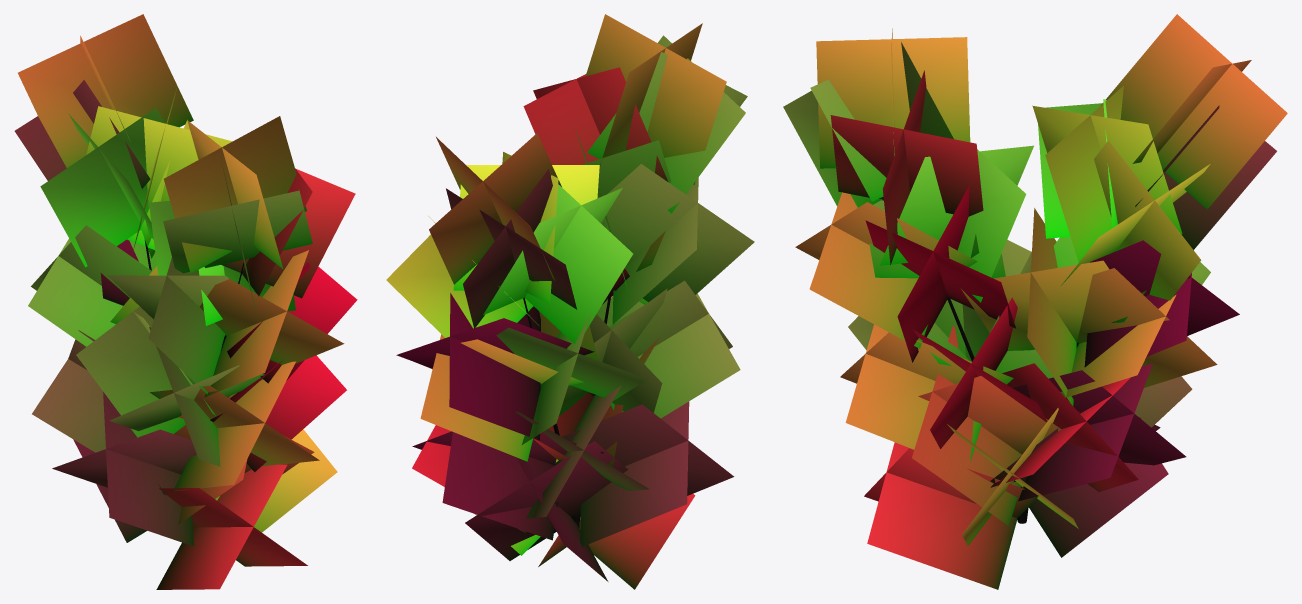
Rendered from Tree_17.fbx.
The picture shows the model from 3 angles, left to right: view 1: azimuth 30°, elevation 25°; view 2: azimuth 150°, elevation 25°; view 3: azimuth 270°, elevation 25°; orthographic projection. The views are drawn at different scales.
Visible parts, largest first — view 1: Tree_17; view 2: Tree_17; view 3: Tree_17.
Boxes of the visible parts, <box> form: Tree_17: <box>14,14,357,589</box>; Tree_17: <box>386,14,754,589</box>; Tree_17: <box>783,14,1287,589</box>.
Bounding box in the file's own units: 411 × 783 × 672.
